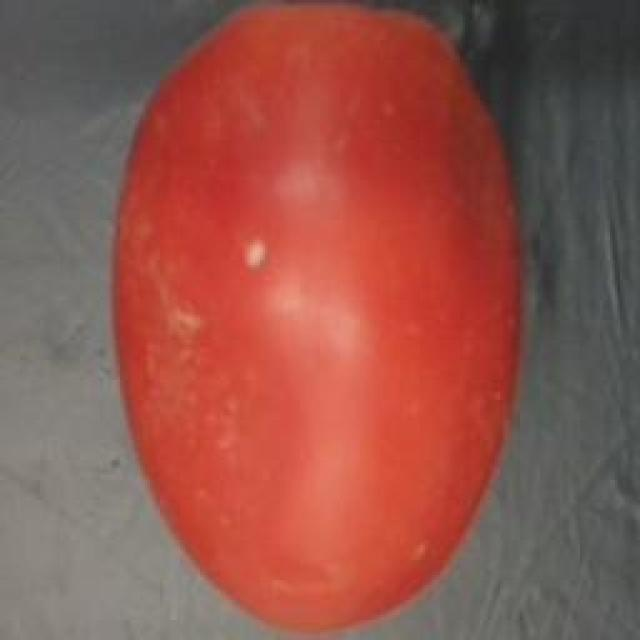overripe tomato: (100, 5, 535, 640)
